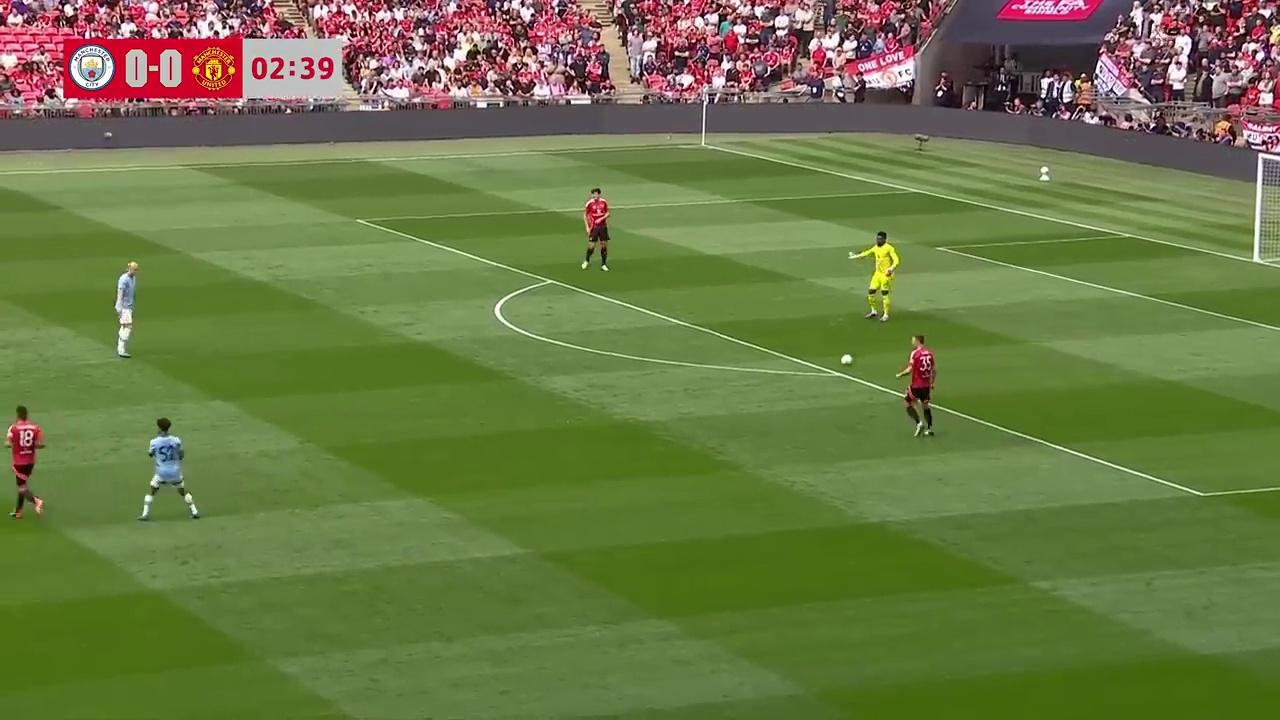ball: (840, 351, 854, 365)
player: (138, 417, 202, 523), (4, 404, 44, 520), (897, 334, 936, 436), (857, 230, 899, 322), (581, 190, 610, 271), (114, 261, 138, 358)
